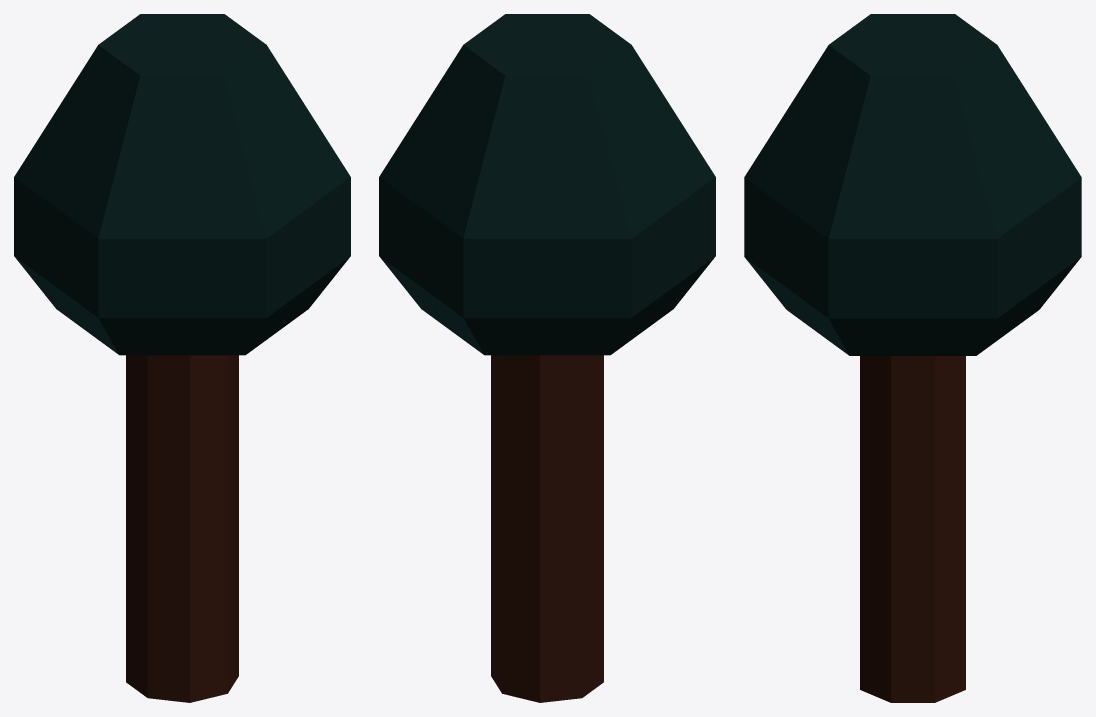
Rendered from Tree1.fbx.
3 views of the same model, side by side, from view 1: azimuth 30°, elevation 25°; view 2: azimuth 150°, elevation 25°; view 3: azimuth 270°, elevation 25° (orthographic).
Visible parts, largest first — view 1: mergedBlocks; view 2: mergedBlocks; view 3: mergedBlocks.
Part boxes in pixels (bbox=[...]): mergedBlocks: bbox=[14, 14, 350, 702]; mergedBlocks: bbox=[379, 14, 715, 702]; mergedBlocks: bbox=[744, 14, 1081, 702].
Size of the model in its own units: 10 by 24 by 11.55.
